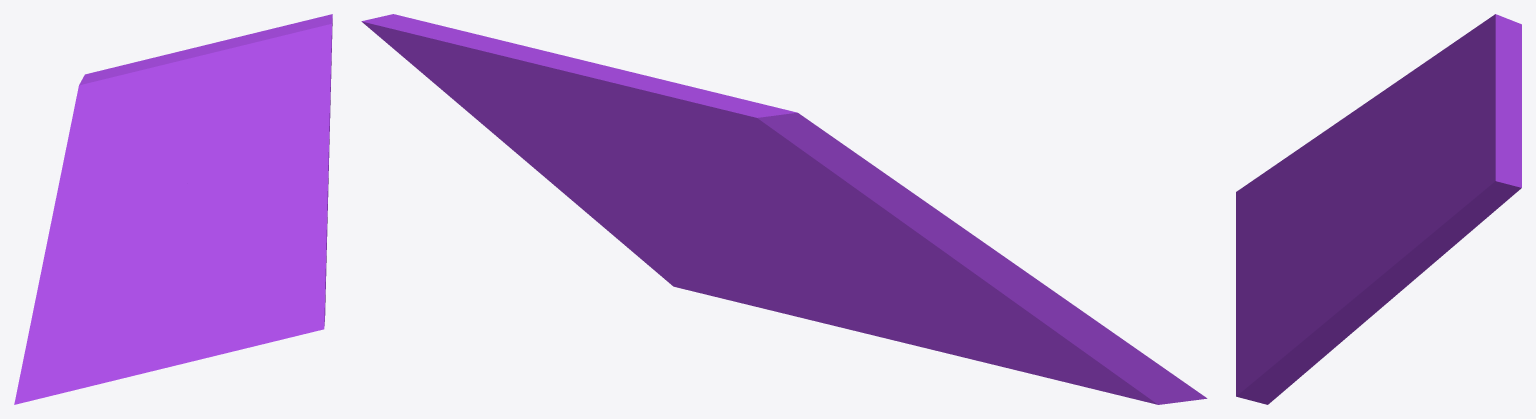
The model's file is Window_97_chunks.fbx.
The picture shows the model from 3 angles, left to right: view 1: azimuth 30°, elevation 25°; view 2: azimuth 150°, elevation 25°; view 3: azimuth 270°, elevation 25°; orthographic projection. The views are drawn at different scales.
Parts seen in each view (by area): view 1: Window_97_2, Window_97_1, Window_97_0, Window_97_3; view 2: Window_97_1, Window_97_2, Window_97_0; view 3: Window_97_1, Window_97_2, Window_97_0, Window_97_3.
Part boxes in pixels (box(x1,y1,x2,y2)): Window_97_2: box(14, 205, 325, 404); Window_97_1: box(191, 14, 332, 302); Window_97_0: box(39, 48, 197, 278); Window_97_3: box(185, 51, 235, 226); Window_97_1: box(361, 14, 758, 275); Window_97_2: box(661, 218, 1207, 404); Window_97_0: box(588, 67, 1045, 303); Window_97_1: box(1272, 94, 1521, 395); Window_97_2: box(1236, 122, 1370, 404); Window_97_0: box(1338, 14, 1521, 189); Window_97_3: box(1342, 91, 1502, 246).
Bounding box in the file's own units: 1753 × 829 × 756.
